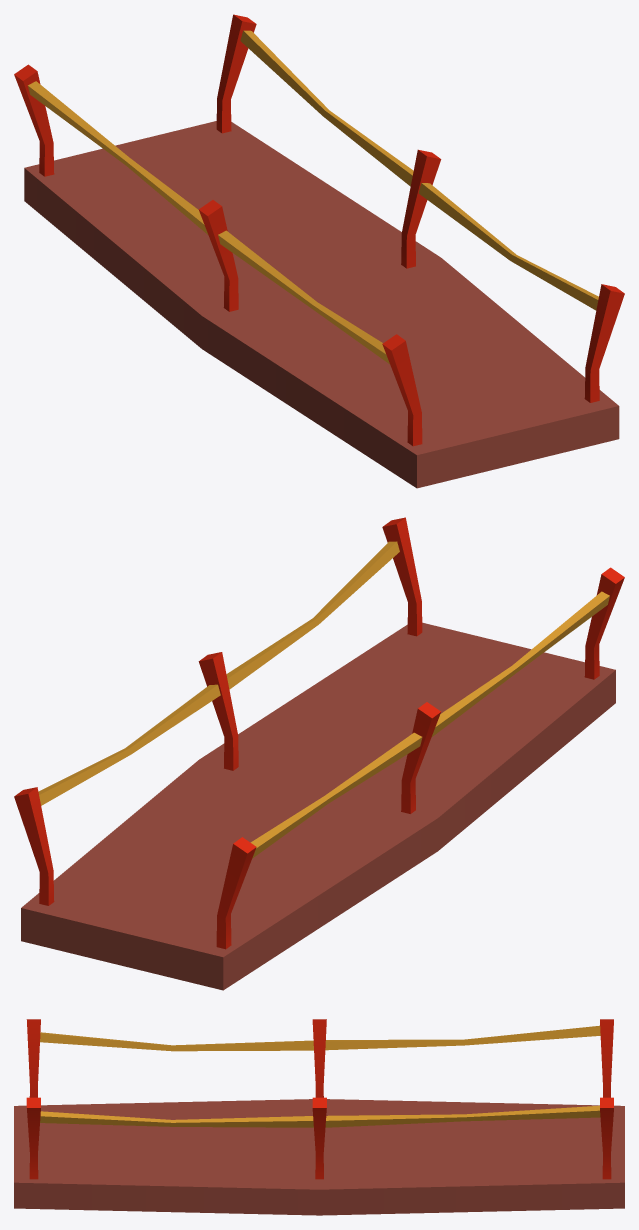
The model's file is SM_Gateway.FBX.
The picture shows the model from 3 angles, top to bottom: view 1: azimuth 30°, elevation 25°; view 2: azimuth 150°, elevation 25°; view 3: azimuth 270°, elevation 25°; orthographic projection. The views are drawn at different scales.
Visible parts, largest first — view 1: SM_Gateway (×2), SM_Gateway001; view 2: SM_Gateway (×2), SM_Gateway001; view 3: SM_Gateway (×2), SM_Gateway001.
Boxes of the visible parts, x1,y1,x2,y2 form: SM_Gateway (×2): [24, 14, 624, 488]; SM_Gateway001: [14, 64, 422, 446]; SM_Gateway (×2): [14, 517, 615, 990]; SM_Gateway001: [216, 567, 624, 949]; SM_Gateway (×2): [14, 1097, 624, 1215]; SM_Gateway001: [26, 1019, 613, 1097].
Size of the model in its own units: 235 by 134 by 668.
